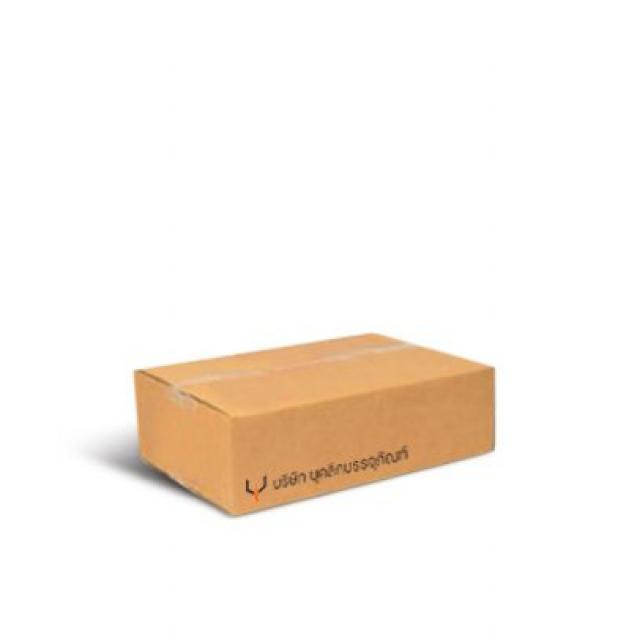box: (109, 317, 552, 518)
